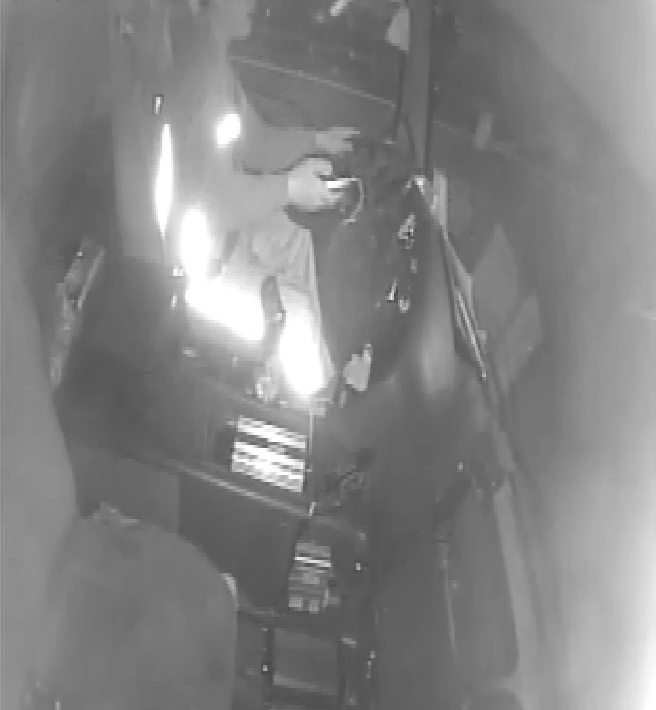cellphone: (302, 156, 362, 204)
